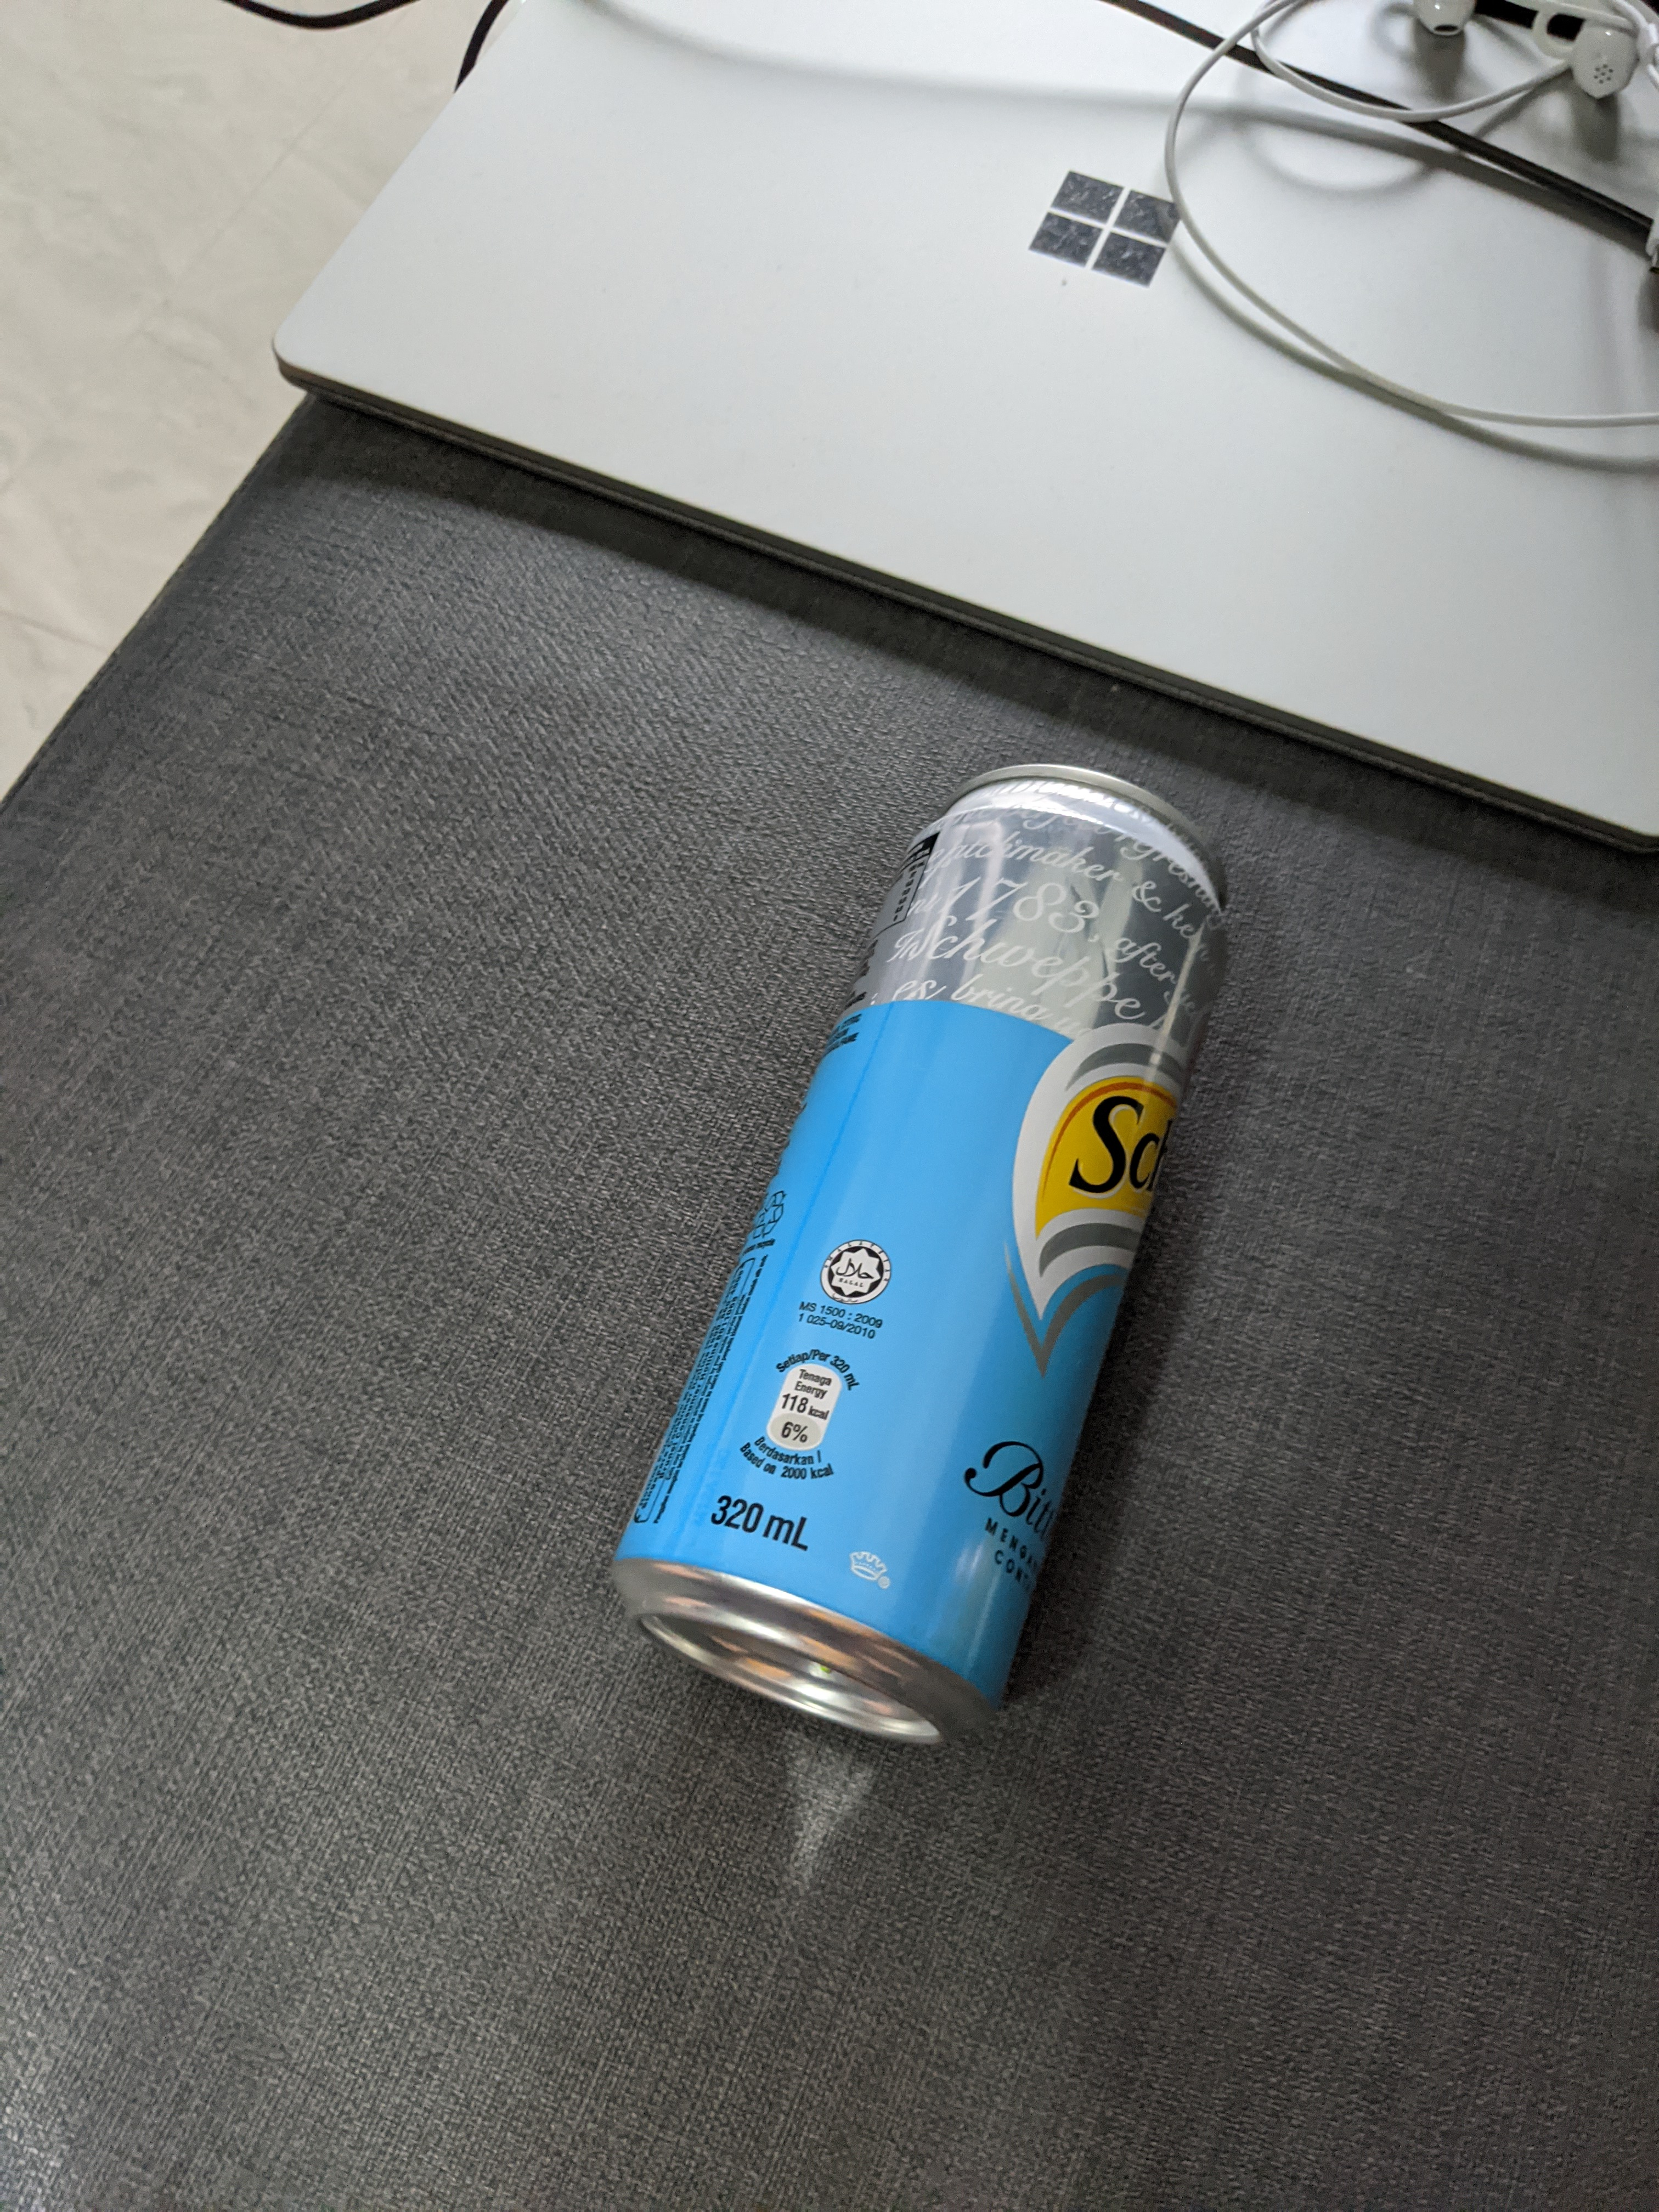schweppes drink can bitter lemon: (572, 740, 1260, 1785)
